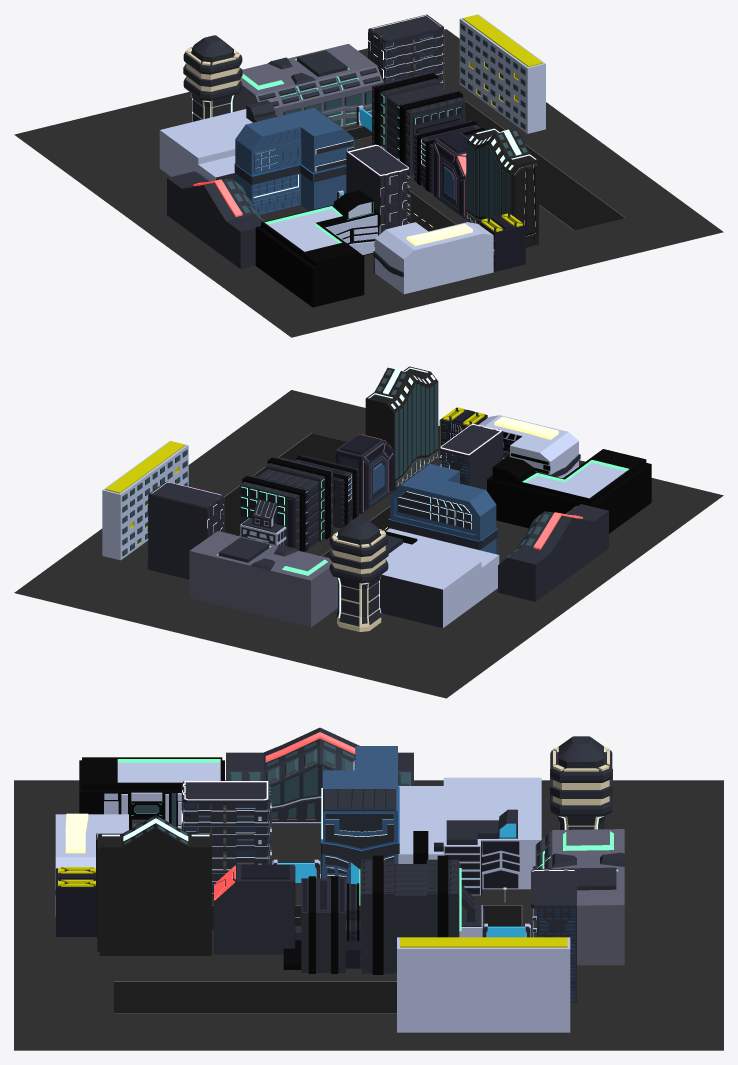
File: LowPolyCity.fbx
3 views of the same model, one above another, from view 1: azimuth 30°, elevation 25°; view 2: azimuth 150°, elevation 25°; view 3: azimuth 270°, elevation 25° (orthographic). The views are drawn at different scales.
Parts seen in each view (by area): view 1: City; view 2: City; view 3: City.
Boxes of the visible parts, x1,y1,x2,y2 form: City: (14, 14, 723, 337); City: (14, 366, 723, 698); City: (14, 727, 723, 1050).
Bounding box in the file's own units: 19513 × 4502 × 21681.
